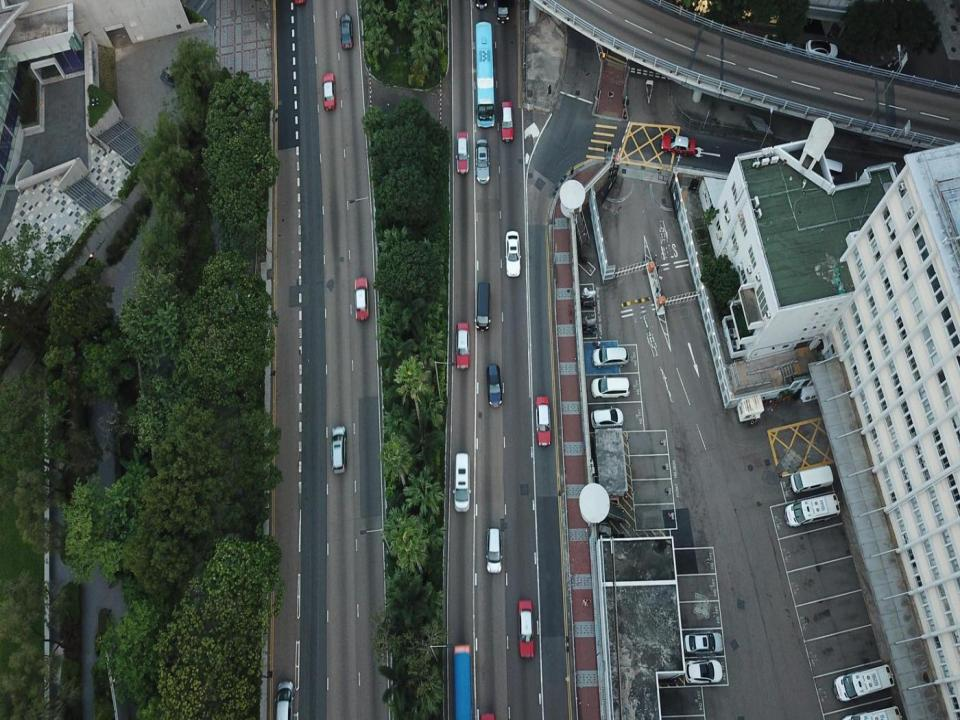bus: (474, 18, 496, 131)
car: (683, 660, 725, 687), (680, 633, 724, 654), (660, 132, 698, 156), (330, 425, 347, 478), (518, 598, 533, 658), (473, 138, 492, 184), (485, 527, 502, 576), (504, 229, 520, 279), (455, 321, 471, 371), (805, 38, 837, 63), (536, 395, 551, 448), (353, 275, 369, 323), (486, 364, 503, 409), (275, 680, 293, 719), (591, 408, 625, 426), (456, 130, 469, 176), (500, 100, 513, 144), (339, 12, 352, 50), (323, 72, 335, 112), (493, 1, 512, 23), (474, 0, 489, 14), (478, 709, 496, 719), (294, 0, 307, 7)
truck: (451, 643, 473, 719)
van: (835, 665, 894, 702), (786, 496, 842, 527), (787, 464, 834, 495), (454, 452, 471, 513), (475, 278, 492, 332), (839, 706, 907, 719), (592, 374, 630, 395), (591, 346, 629, 366), (813, 158, 843, 183)
